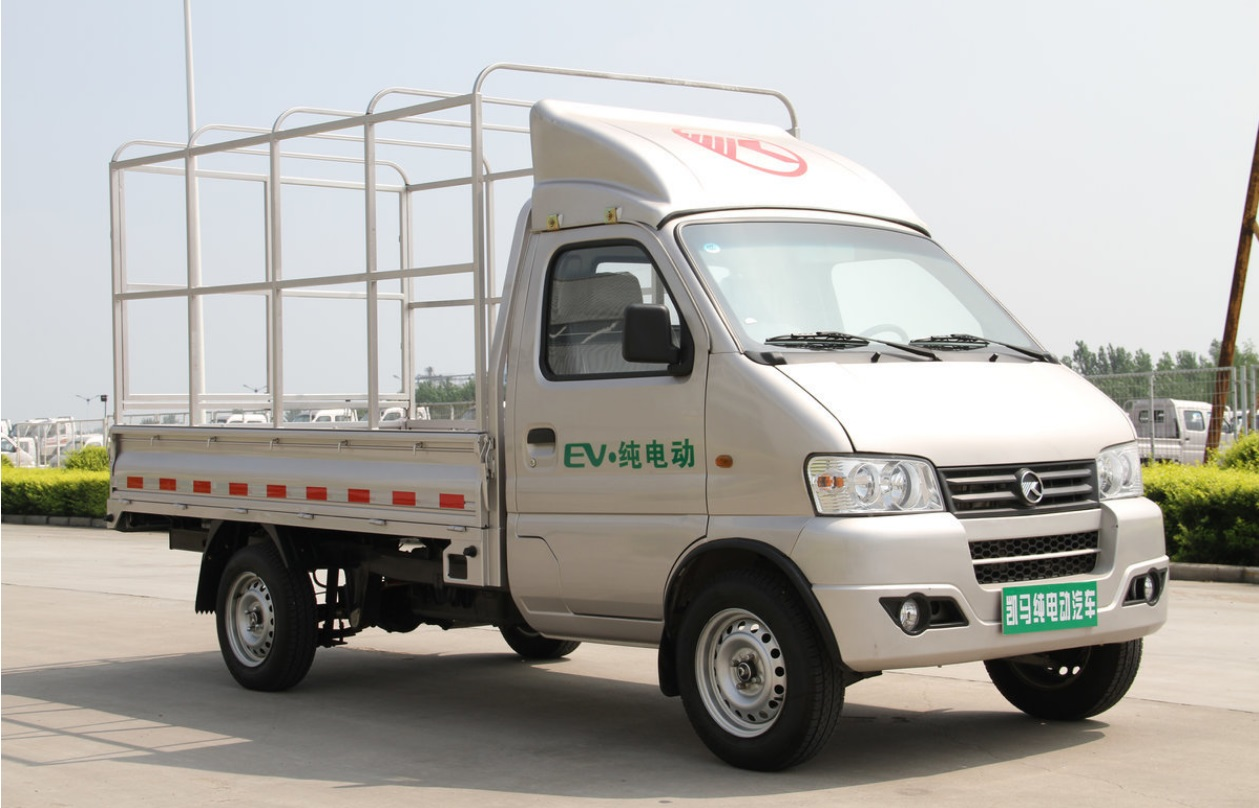truck: (84, 62, 1180, 777)
